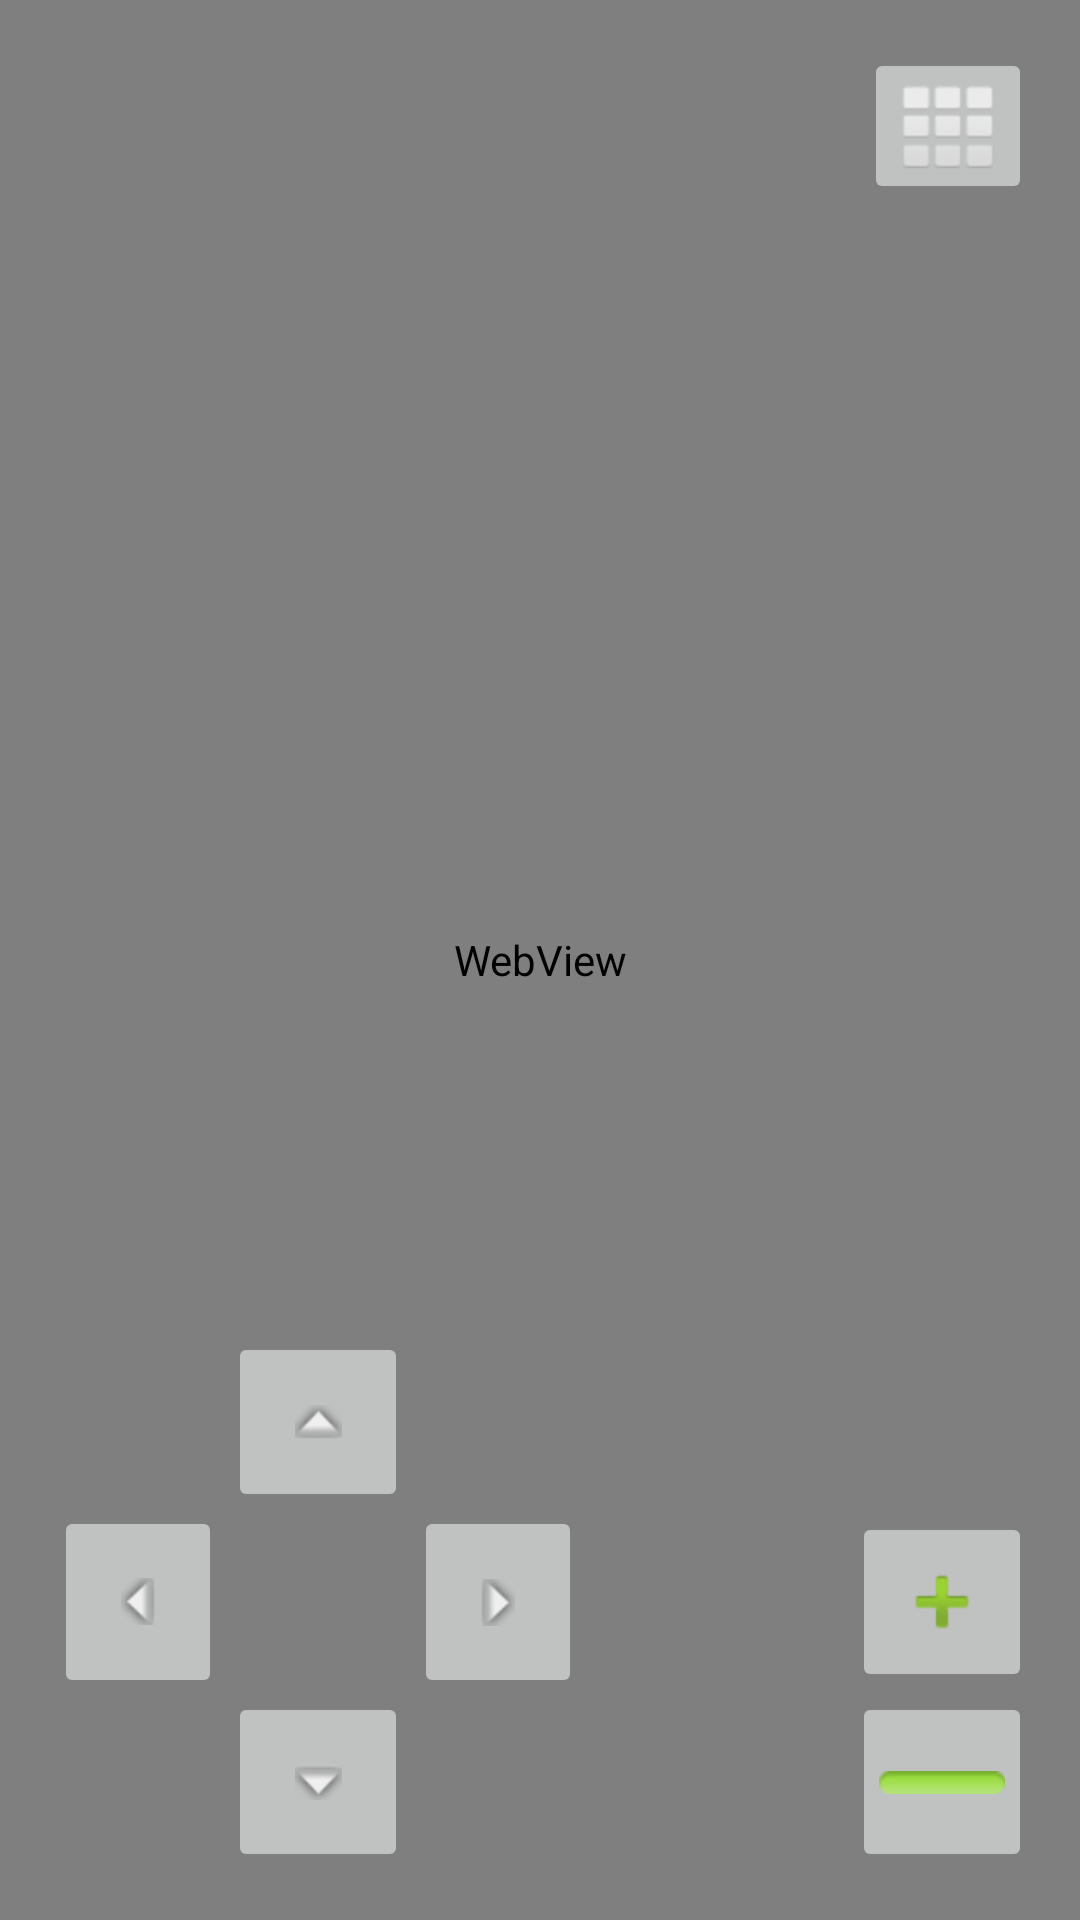

Screen size 1080px×1920px. Icon name, then its center in pixels as (x=x, y=y):
add: (x=942, y=1602)
arrow down float: (x=318, y=1782)
dialer: (x=948, y=126)
